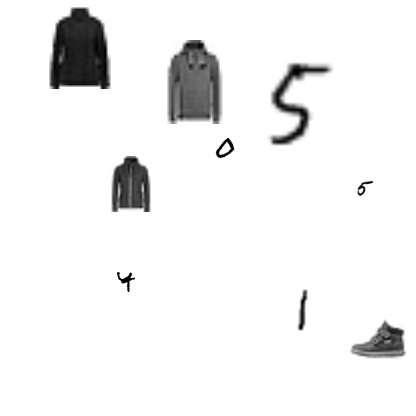0: (211, 134, 239, 162)
1: (273, 282, 329, 338)
4: (112, 266, 140, 294)
5: (236, 44, 348, 156), (352, 176, 374, 198)
Ankle_boot: (350, 312, 406, 368)
Coat: (102, 156, 158, 212)
Pullover: (38, 5, 122, 89), (153, 40, 237, 124)
